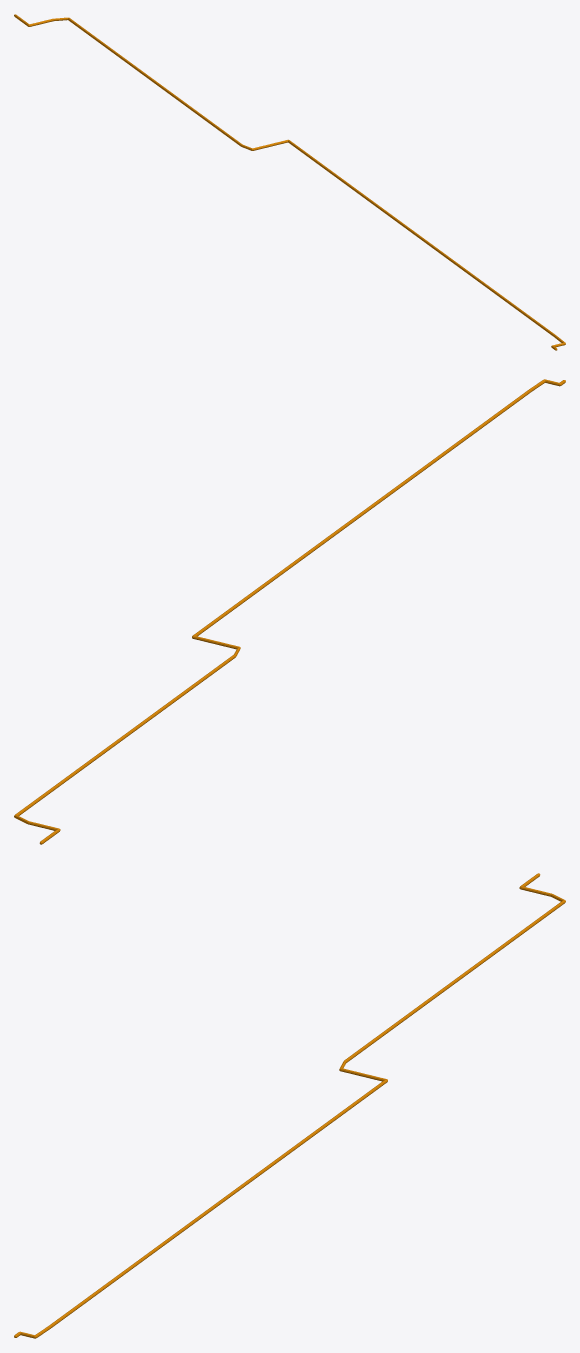
The picture shows the model from 3 angles, top to bottom: view 1: azimuth 30°, elevation 25°; view 2: azimuth 150°, elevation 25°; view 3: azimuth 330°, elevation 25°; orthographic projection. The views are drawn at different scales.
Bounding box in the file's own units: 657 × 20 × 6903.
